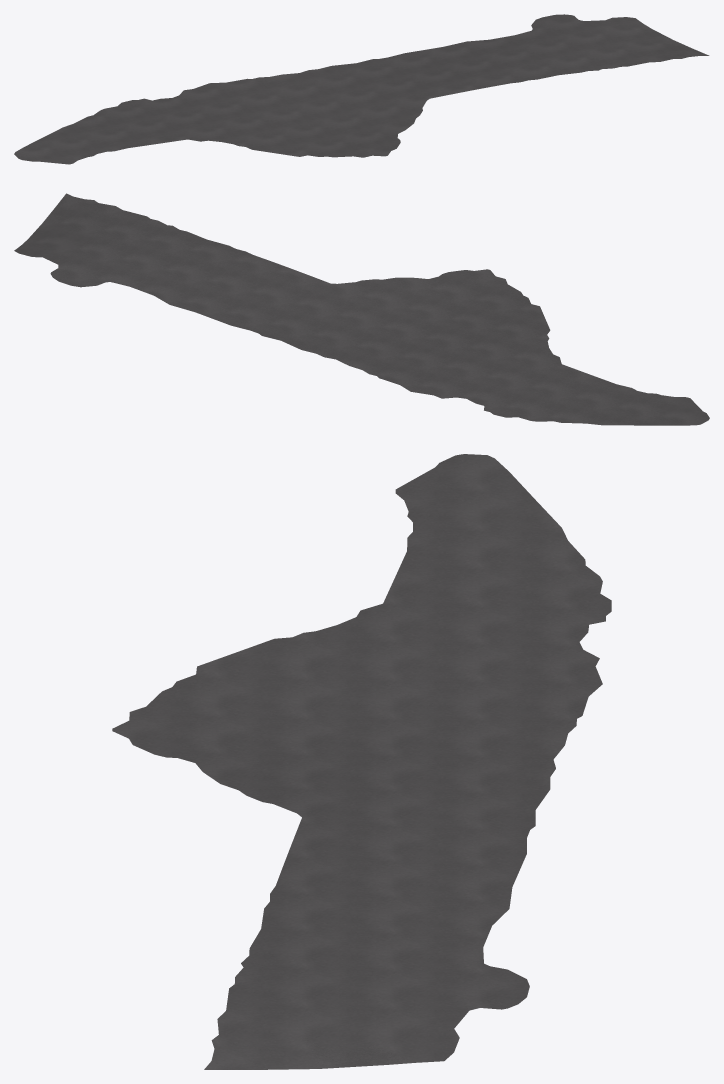
The model's file is road_02.gltf.
The picture shows the model from 3 angles, top to bottom: view 1: azimuth 30°, elevation 25°; view 2: azimuth 150°, elevation 25°; view 3: azimuth 270°, elevation 25°; orthographic projection. The views are drawn at different scales.
Parts seen in each view (by area): view 1: road_02.surface; view 2: road_02.surface; view 3: road_02.surface.
Part boxes in pixels (<box>): road_02.surface: <box>14,14,709,164</box>; road_02.surface: <box>14,193,709,425</box>; road_02.surface: <box>112,454,611,1069</box>.
Size of the model in its own units: 49.53 by 0.5459 by 17.1.
1 material, 1 textured.
